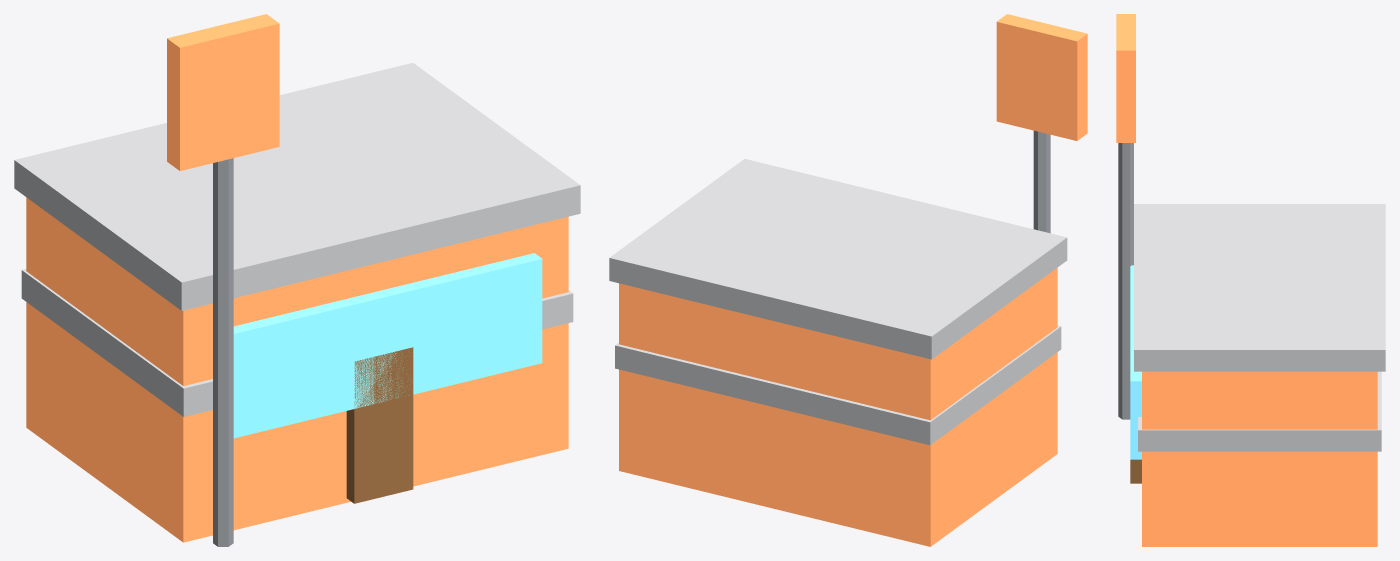
The model's file is diner.glb.
3 renders of one model, left to right at view 1: azimuth 30°, elevation 25°; view 2: azimuth 150°, elevation 25°; view 3: azimuth 270°, elevation 25°, orthographic. The views are drawn at different scales.
Visible parts, largest first — view 1: diner; view 2: diner; view 3: diner.
Boxes of the visible parts, box(x1,y1,x2,y2) form: diner: box(14, 14, 580, 546); diner: box(609, 14, 1087, 546); diner: box(1116, 14, 1385, 546).
Size of the model in its own units: 0.91 by 1.08 by 0.685.
